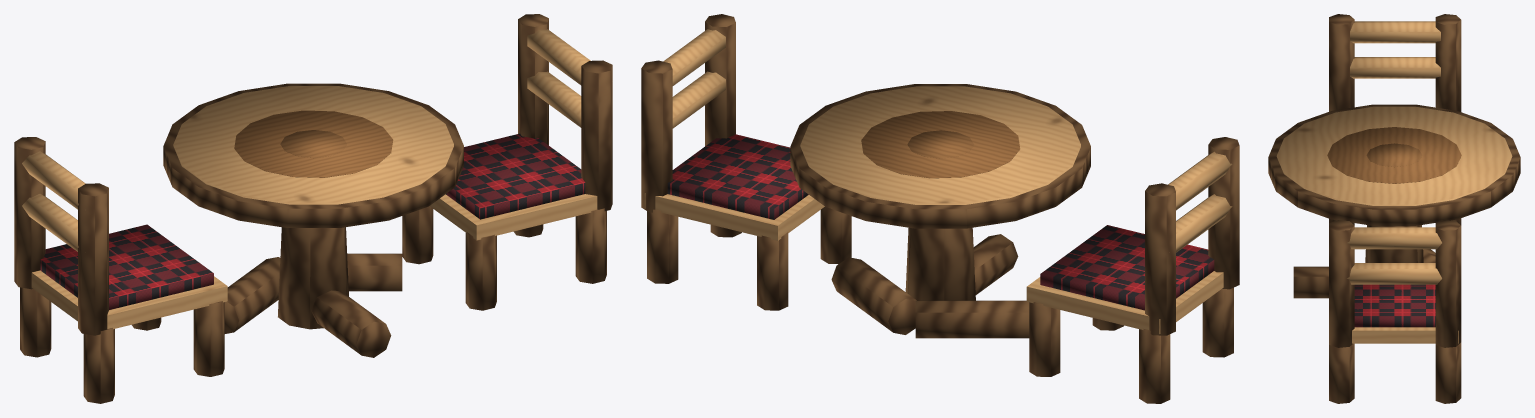
Rendered from patio-table.glb.
3 views of the same model, side by side, from view 1: azimuth 30°, elevation 25°; view 2: azimuth 150°, elevation 25°; view 3: azimuth 270°, elevation 25° (orthographic). The views are drawn at different scales.
Parts seen in each view (by area): view 1: Top.002, ChairL-Logs, ChairR-Logs, TopBark, TopRings, Feet, ChairR-Cushion.001, ChairL-Cushion.001, Pole, ChairL-Seat, ChairR-Seat, ChairR-Rails (+1 smaller); view 2: Top.002, ChairL-Logs, ChairR-Logs, Feet, TopBark, TopRings, ChairR-Cushion.001, ChairL-Cushion.001, Pole, ChairL-Seat, ChairR-Seat, ChairL-Rails (+1 smaller); view 3: Top.002, ChairR-Logs, TopBark, TopRings, ChairL-Logs, ChairR-Rails, ChairL-Rails, ChairR-Cushion.001, ChairR-Seat, Feet, Pole.
Part boxes in pixels (x1,y1,x2,y2): Top.002: (173, 86, 453, 204); ChairL-Logs: (14, 137, 224, 403); ChairR-Logs: (402, 14, 612, 310); TopBark: (163, 83, 463, 227); TopRings: (234, 110, 393, 177); Feet: (224, 253, 402, 357); ChairR-Cushion.001: (446, 133, 585, 219); ChairL-Cushion.001: (40, 224, 213, 309); Pole: (278, 227, 348, 329); ChairL-Seat: (31, 270, 227, 329); ChairR-Seat: (430, 194, 597, 240); ChairR-Rails: (527, 29, 590, 127); Top.002: (800, 86, 1080, 204); ChairL-Logs: (1029, 137, 1239, 403); ChairR-Logs: (641, 14, 851, 310); Feet: (831, 234, 1029, 338); TopBark: (790, 84, 1090, 228); TopRings: (861, 111, 1020, 178); ChairR-Cushion.001: (667, 134, 808, 219); ChairL-Cushion.001: (1040, 225, 1214, 310); Pole: (905, 227, 975, 300); ChairL-Seat: (1026, 271, 1223, 333); ChairR-Seat: (644, 193, 824, 240); ChairL-Rails: (1168, 151, 1232, 252); Top.002: (1276, 106, 1512, 205); ChairR-Logs: (1329, 220, 1461, 403); TopBark: (1268, 104, 1520, 225); TopRings: (1327, 127, 1461, 183); ChairL-Logs: (1329, 14, 1461, 225); ChairR-Rails: (1347, 227, 1441, 284); ChairL-Rails: (1350, 21, 1440, 78); ChairR-Cushion.001: (1354, 284, 1435, 327); ChairR-Seat: (1352, 327, 1458, 343); Feet: (1293, 249, 1435, 298); Pole: (1365, 225, 1423, 262).
Bounding box in the file's own units: 0.0917 × 0.0345 × 0.045.
Materials: 4 (4 with a texture image).
